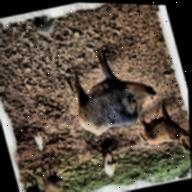boar: (64, 33, 171, 144)
